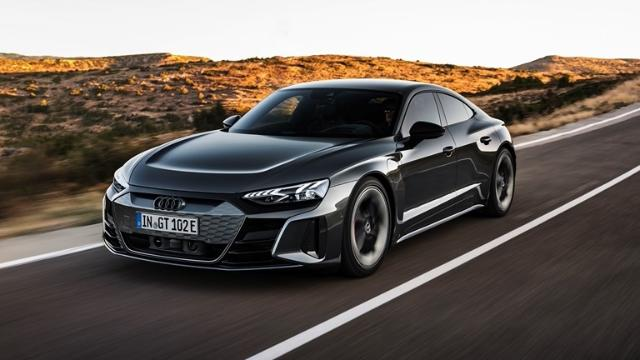audi: (101, 78, 517, 278)
